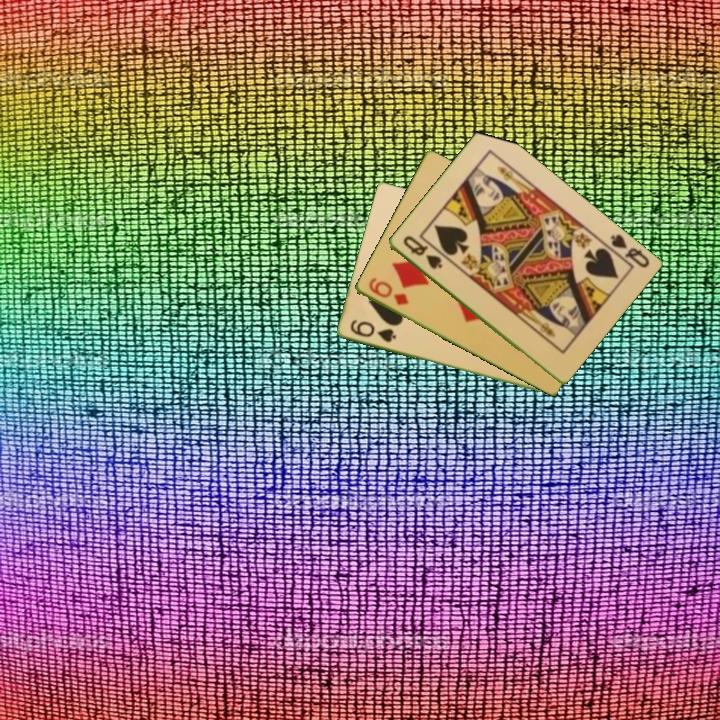6d: (364, 274, 411, 308)
6s: (346, 316, 399, 345)
Qs: (600, 230, 652, 271), (399, 232, 445, 272)
